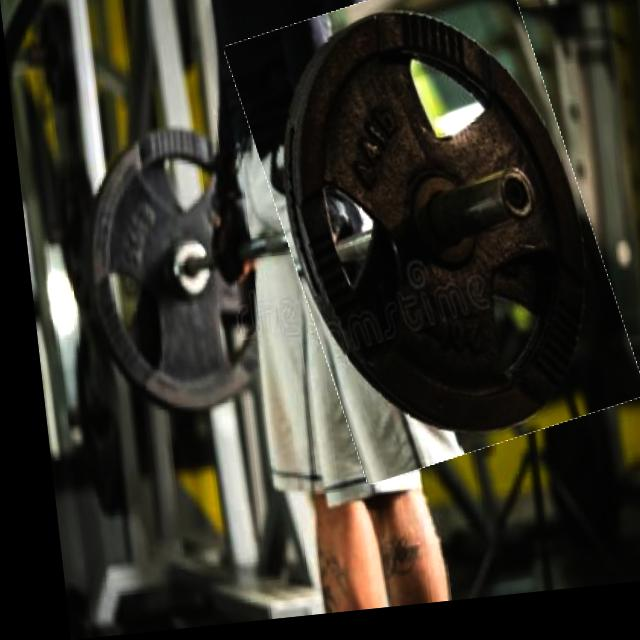barbell: (241, 1, 619, 486)
